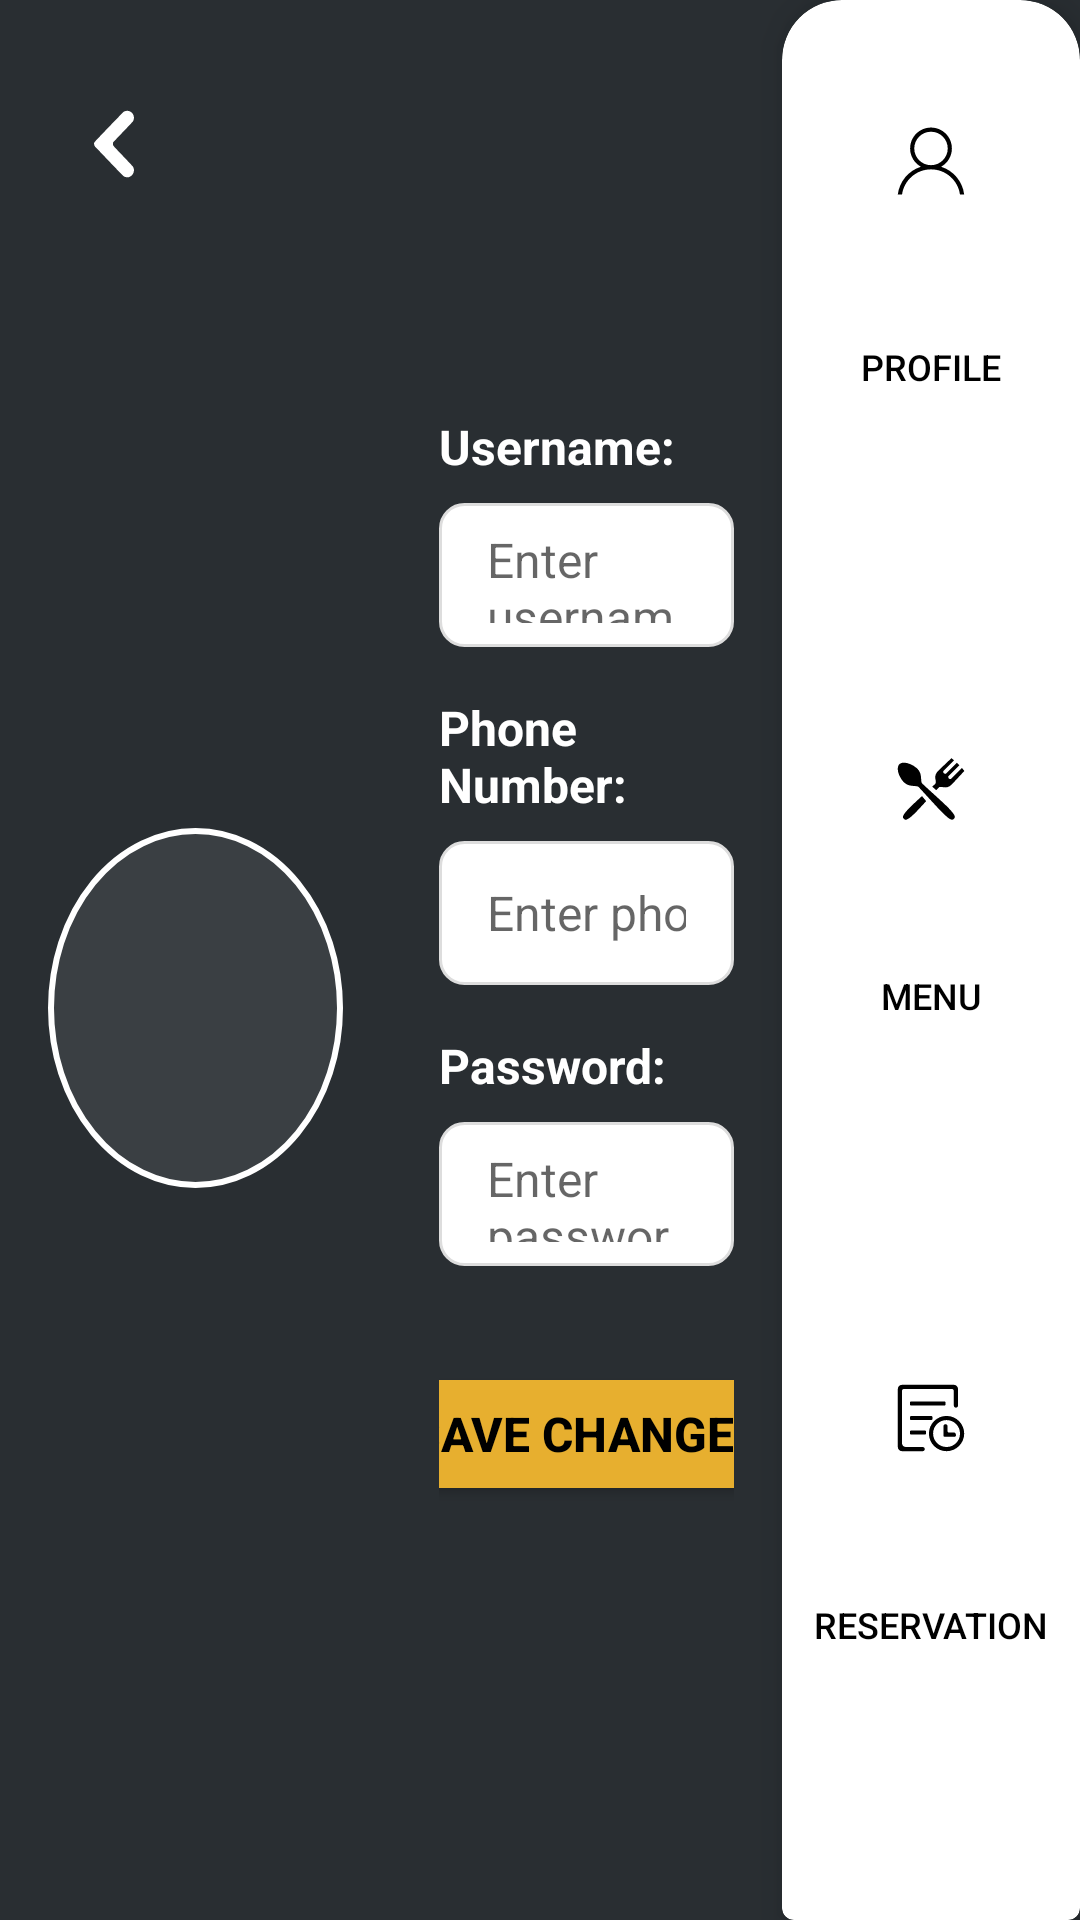

Icon bounding boxes for this 1080×1920 phone screenshot, format box(x1, y1, x2, y2):
Back: box(94, 110, 134, 178)
